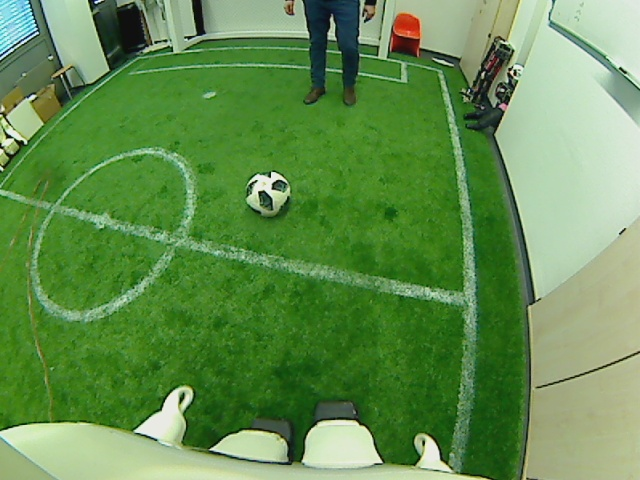ball: (243, 169, 290, 216)
